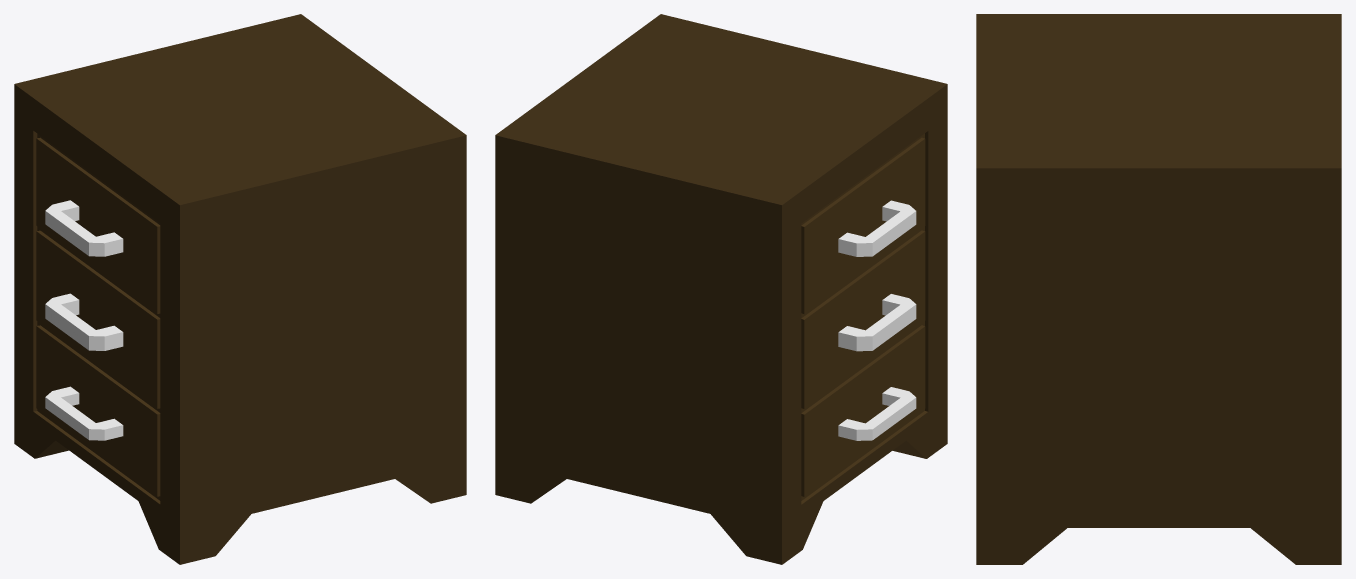
File: Drawer.fbx
3 views of the same model, side by side, from view 1: azimuth 30°, elevation 25°; view 2: azimuth 150°, elevation 25°; view 3: azimuth 270°, elevation 25° (orthographic). The views are drawn at different scales.
Visible parts, largest first — view 1: Cabinet; view 2: Cabinet; view 3: Cabinet.
Part boxes in pixels (x1,y1,x2,y2): Cabinet: [14, 14, 466, 564]; Cabinet: [495, 14, 947, 564]; Cabinet: [976, 14, 1341, 564].
Bounding box in the file's own units: 519 × 564 × 470.
